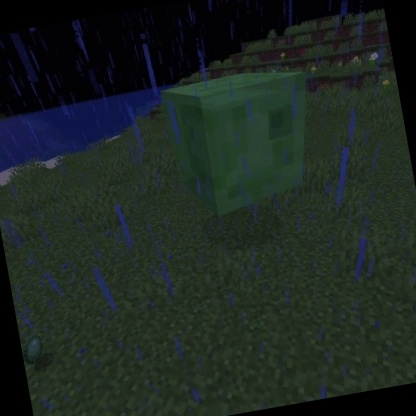slime: (155, 55, 334, 228)
